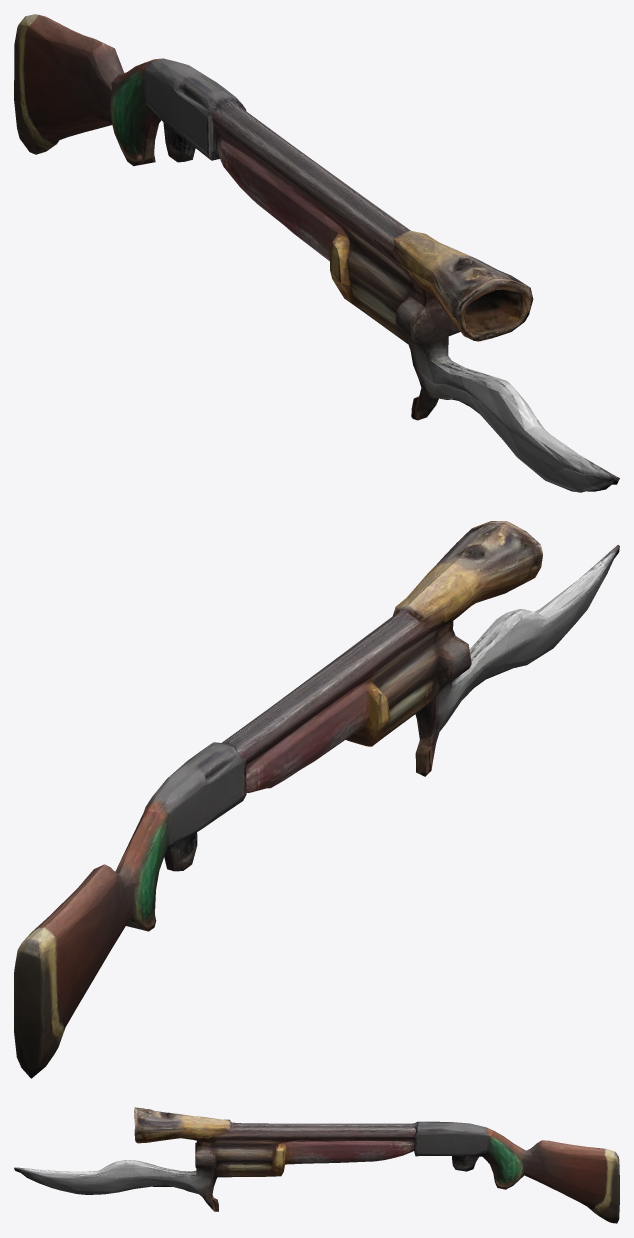
The model's file is zhangba.glb.
The picture shows the model from 3 angles, top to bottom: view 1: azimuth 30°, elevation 25°; view 2: azimuth 150°, elevation 25°; view 3: azimuth 270°, elevation 25°; orthographic projection. The views are drawn at different scales.
Visible parts, largest first — view 1: geometry_0; view 2: geometry_0; view 3: geometry_0.
Boxes of the visible parts, <box> form: geometry_0: <box>14,14,619,492</box>; geometry_0: <box>14,521,619,1078</box>; geometry_0: <box>14,1107,619,1223</box>.
Bounding box in the file's own units: 0.0731 × 0.2041 × 0.9978.
1 material, 1 textured.
